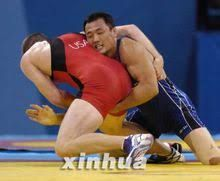fall: (12, 13, 205, 167)
